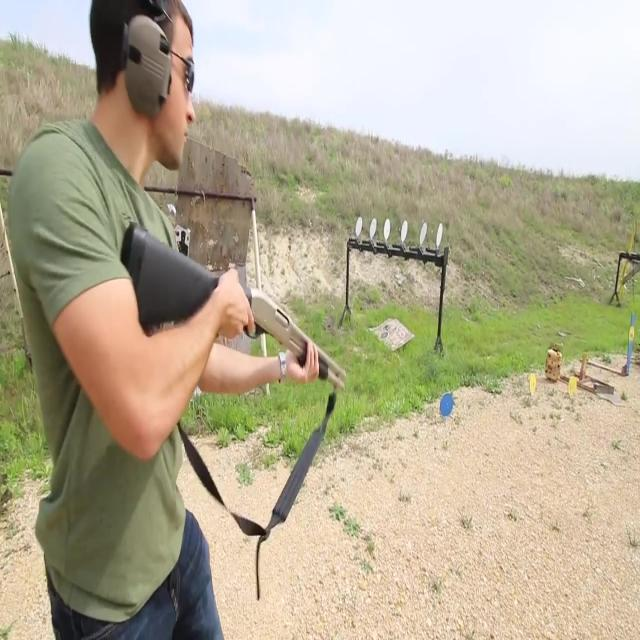Weapon: (99, 183, 366, 493)
